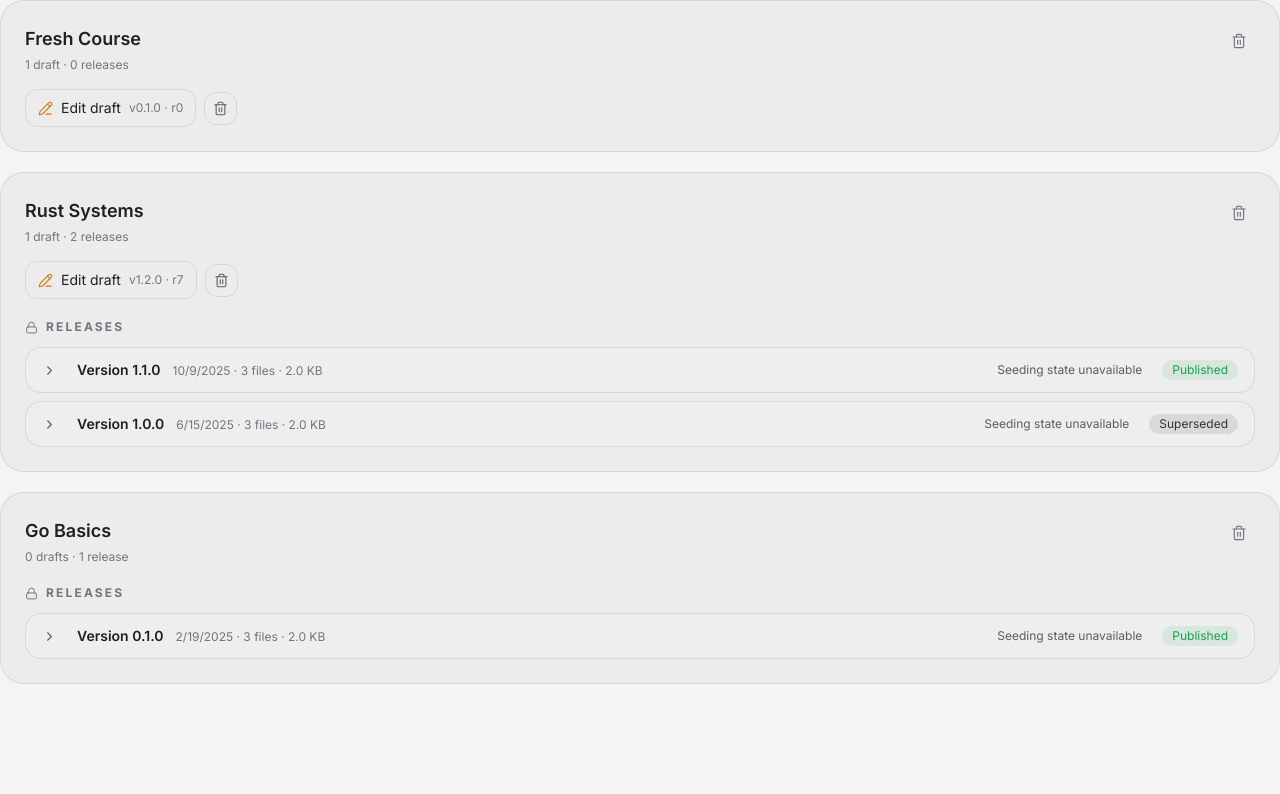
Test: course management › keeps releases visible when seeding state or details are unavailable
Click the button "Version 0.1.0".
click(105, 636)  # box [26,614,1254,658]
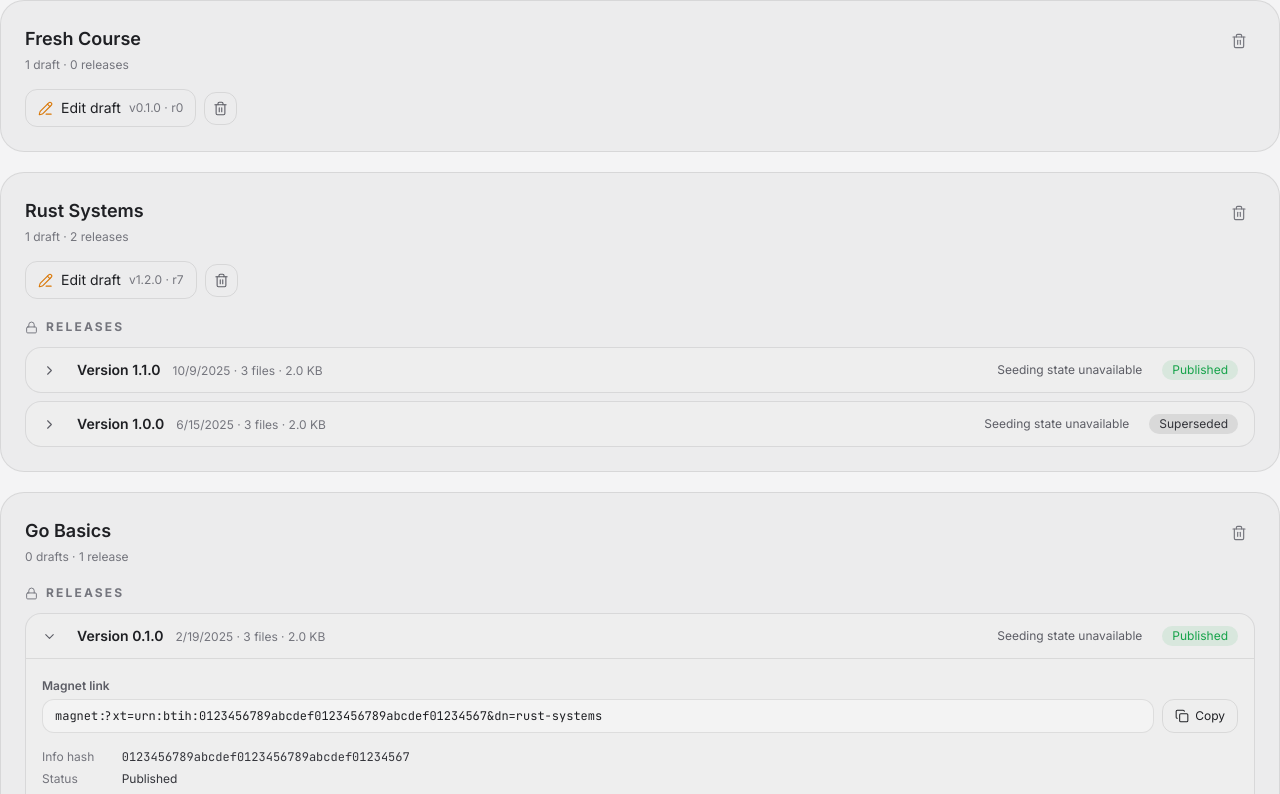
Expected: the field labelled "Magnet link" holds "magnet:?xt=urn:btih:0123456789abcdef0123456789abcdef01234567&dn=rust-systems", [42,699,1154,733]
